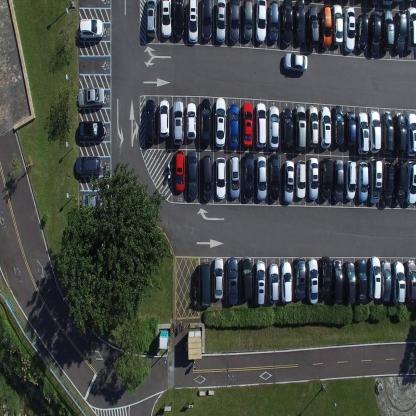car: (214, 96, 227, 148), (74, 154, 102, 178), (77, 119, 106, 142), (200, 154, 213, 202), (280, 0, 293, 48), (77, 86, 104, 109), (391, 260, 405, 304), (199, 96, 211, 147), (369, 158, 382, 204), (77, 18, 104, 40), (268, 153, 280, 202), (226, 257, 238, 306), (199, 262, 211, 310), (306, 104, 319, 148), (356, 111, 369, 155), (282, 160, 295, 204), (368, 256, 381, 300), (187, 149, 198, 200), (306, 5, 319, 48), (368, 110, 381, 153), (280, 260, 293, 303), (228, 154, 240, 200), (172, 99, 184, 145), (255, 102, 267, 148), (293, 0, 305, 46), (393, 162, 406, 204), (144, 99, 156, 144), (255, 0, 267, 45), (343, 7, 355, 52), (368, 10, 380, 55), (381, 162, 393, 207), (295, 103, 306, 152), (356, 161, 369, 202), (244, 151, 255, 199), (242, 100, 253, 148), (228, 0, 240, 44), (282, 107, 294, 151), (307, 156, 319, 200), (319, 256, 331, 300), (82, 192, 108, 212), (355, 12, 368, 52), (240, 254, 251, 301), (319, 5, 331, 48), (382, 8, 394, 51), (332, 104, 344, 147), (394, 112, 406, 155), (256, 155, 267, 201), (307, 258, 318, 304), (356, 258, 367, 304), (320, 106, 332, 148), (405, 160, 416, 205), (332, 259, 343, 304), (228, 103, 239, 147), (215, 156, 226, 200), (268, 105, 279, 149), (382, 110, 393, 154), (333, 158, 344, 202), (321, 156, 332, 200), (344, 110, 356, 150), (283, 53, 308, 72), (187, 0, 198, 43), (332, 3, 343, 46), (295, 257, 306, 300), (344, 261, 355, 304), (160, 0, 172, 39), (173, 0, 185, 39), (201, 0, 212, 42), (215, 0, 226, 42), (395, 10, 406, 52), (159, 98, 170, 139), (242, 0, 253, 41), (345, 159, 356, 200), (295, 159, 306, 200), (406, 6, 416, 51), (406, 112, 416, 157), (255, 260, 265, 305), (214, 257, 224, 301), (186, 101, 197, 141), (175, 148, 185, 192), (268, 263, 279, 303), (405, 260, 415, 304), (146, 0, 157, 39), (381, 259, 391, 301), (269, 0, 278, 44), (381, 0, 393, 6), (369, 0, 379, 5)
